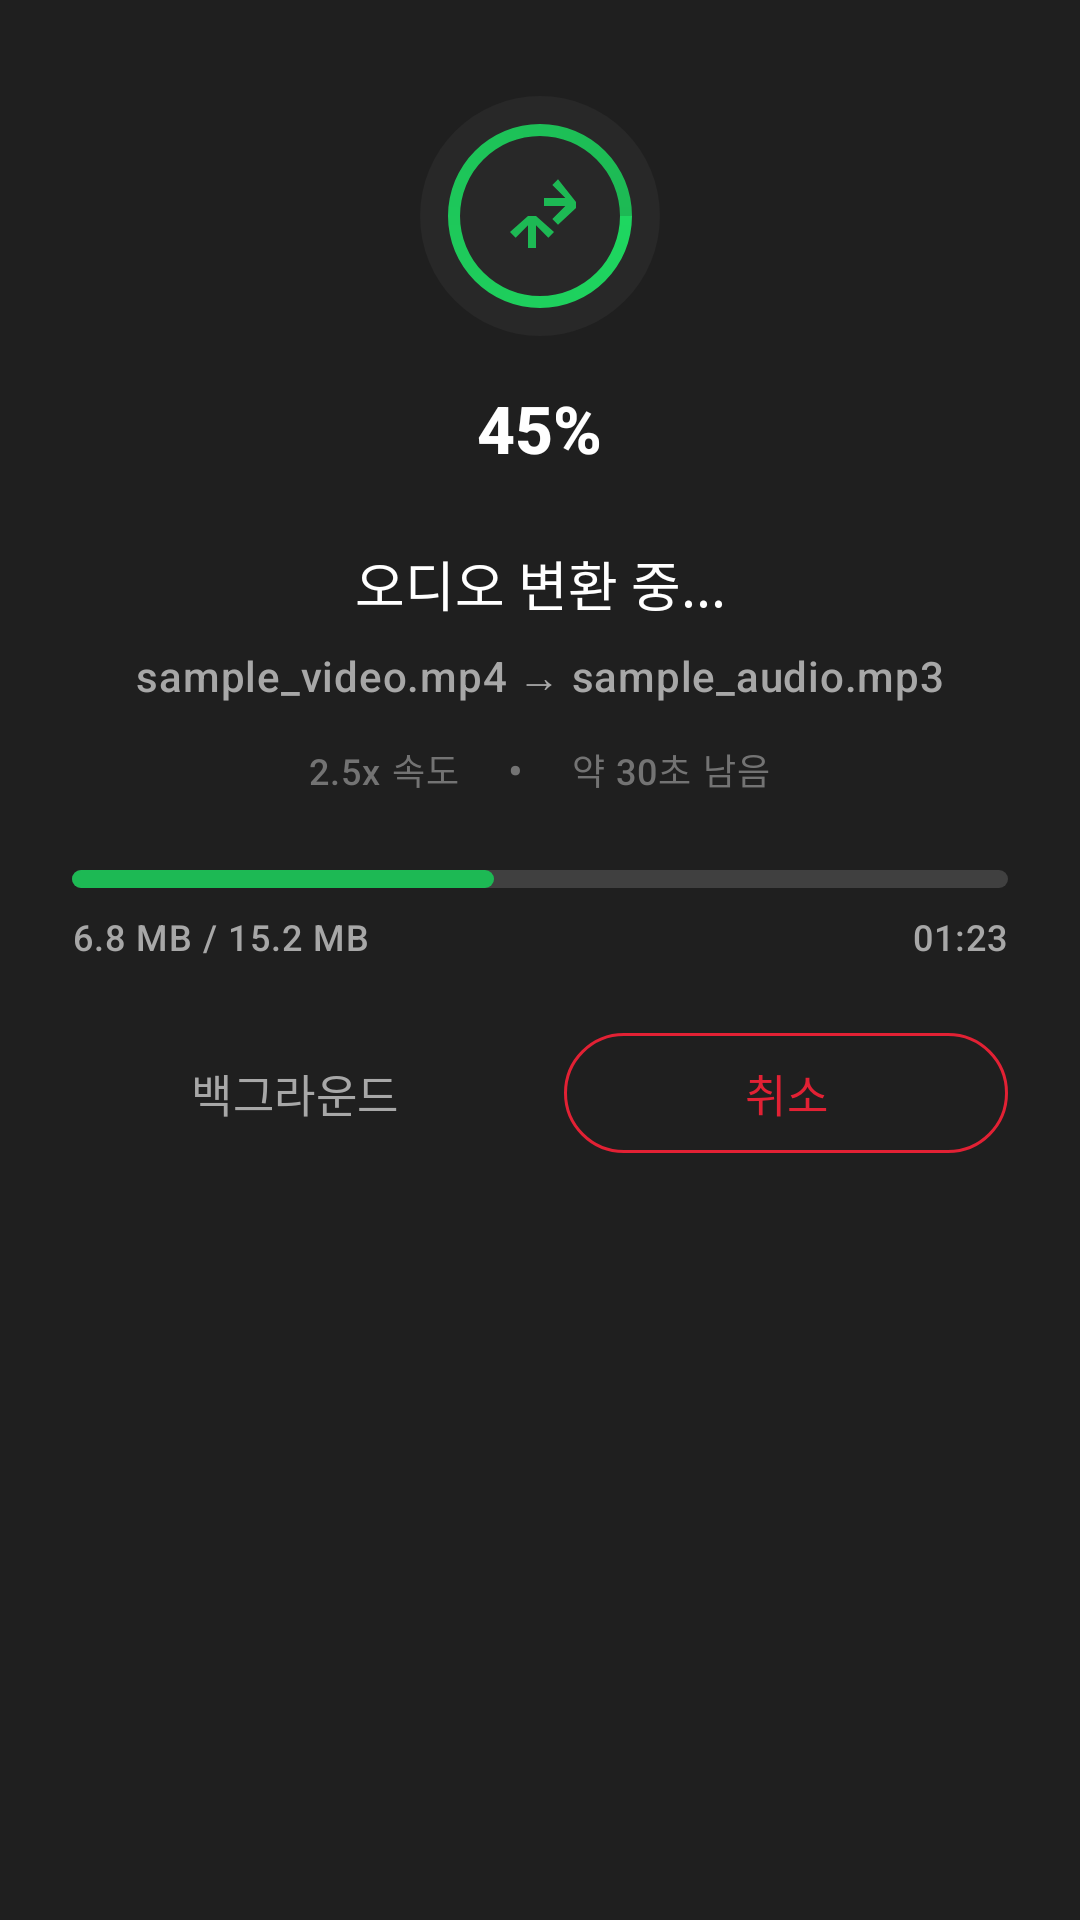

Point at icon controls on the screen. Image size 1080px x 1920px, points as [x,y].
convert: [543,213]
